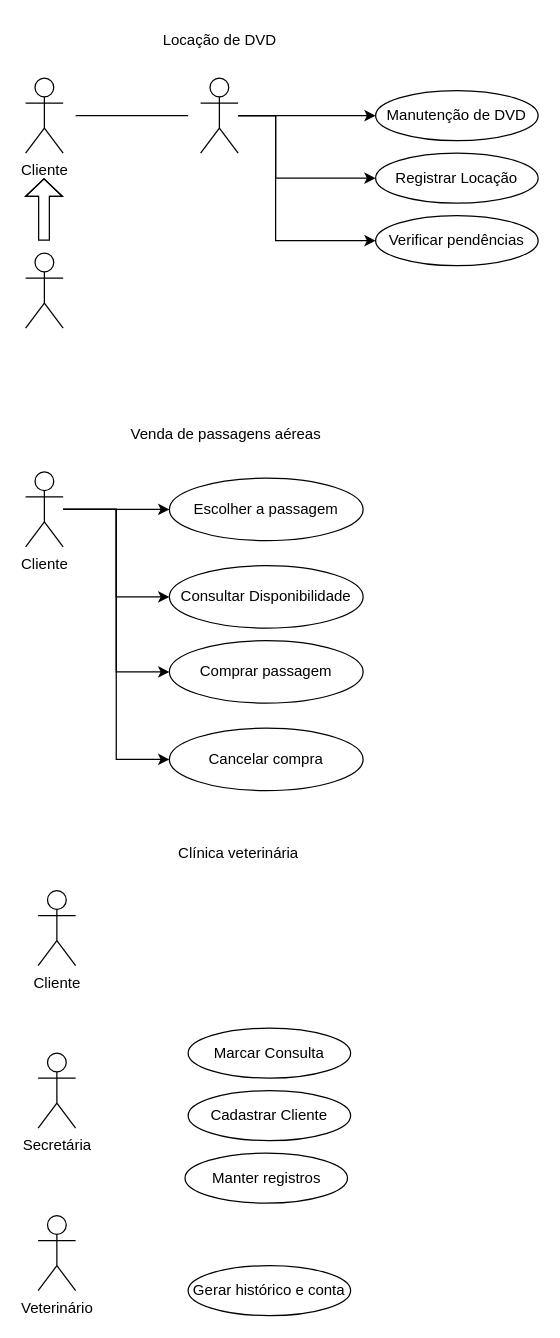
Some shapes in this 560 by 1338 pixel diagram are drawn without their labels. The centre of each missing label's shape, as x and y in pixels:
"Funcionário" goes at (218,115).
"Sócio" goes at (43,290).
